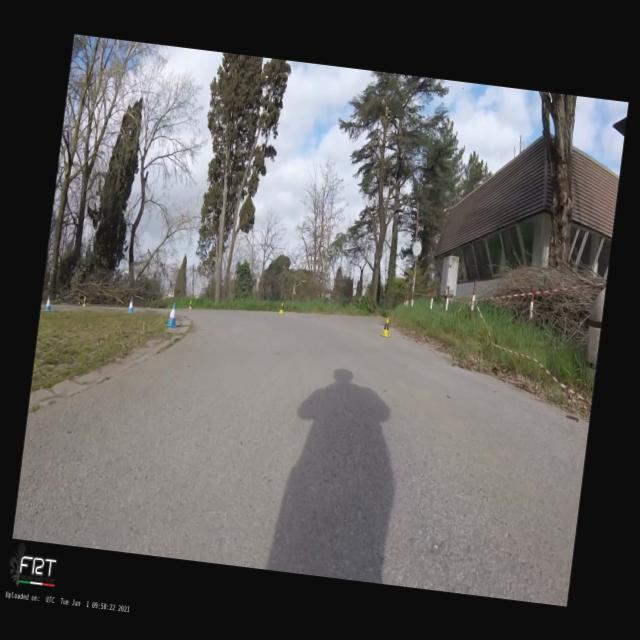blue_cone: (165, 302, 179, 328), (43, 294, 54, 311), (127, 298, 135, 312)
yellow_cone: (380, 316, 392, 337), (277, 302, 285, 314), (80, 295, 88, 307), (188, 300, 192, 308)
